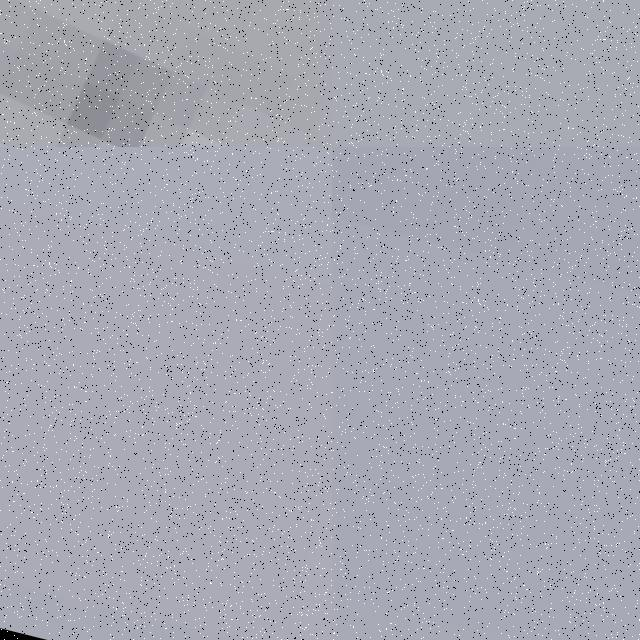drone: (0, 0, 332, 147)
